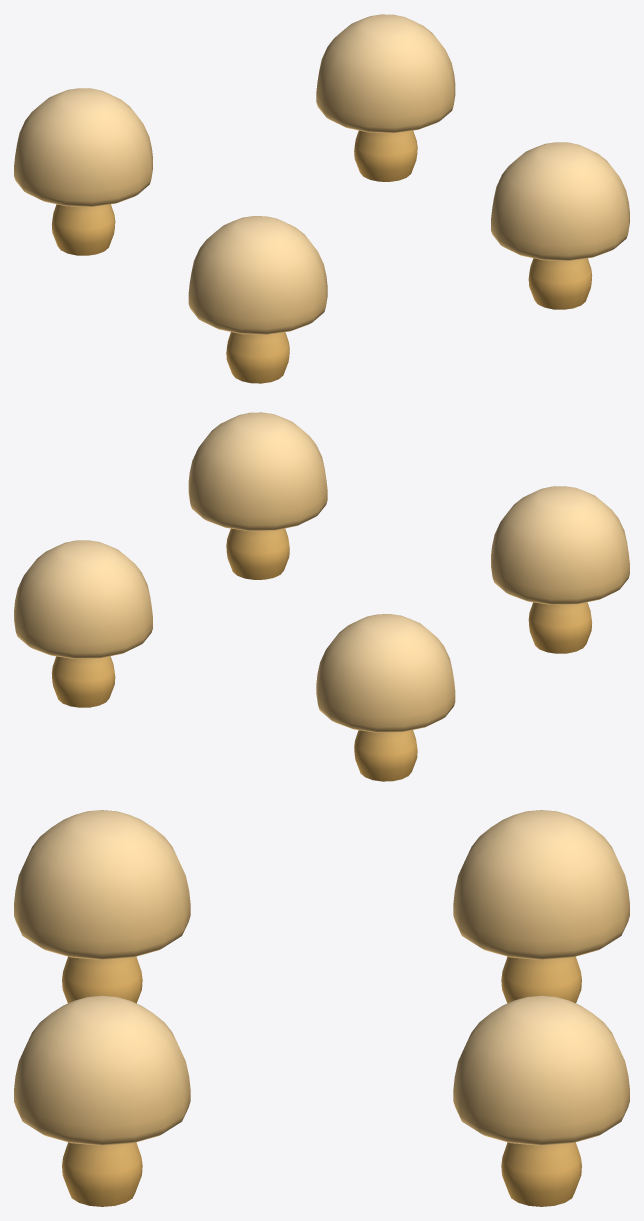
File: Farm_Crop_Mashroom_02_Step_02.glb
3 views of the same model, one above another, from view 1: azimuth 30°, elevation 25°; view 2: azimuth 150°, elevation 25°; view 3: azimuth 270°, elevation 25° (orthographic). The views are drawn at different scales.
Visible parts, largest first — view 1: Farm_Crop_Mashroom_02_Step_02; view 2: Farm_Crop_Mashroom_02_Step_02; view 3: Farm_Crop_Mashroom_02_Step_02.
Part boxes in pixels (bbox=[...]): Farm_Crop_Mashroom_02_Step_02: bbox=[14, 14, 629, 383]; Farm_Crop_Mashroom_02_Step_02: bbox=[14, 412, 629, 781]; Farm_Crop_Mashroom_02_Step_02: bbox=[14, 810, 629, 1206].
Size of the model in its own units: 1.4 by 0.4714 by 1.4.
Materials: 1 (1 with a texture image).
